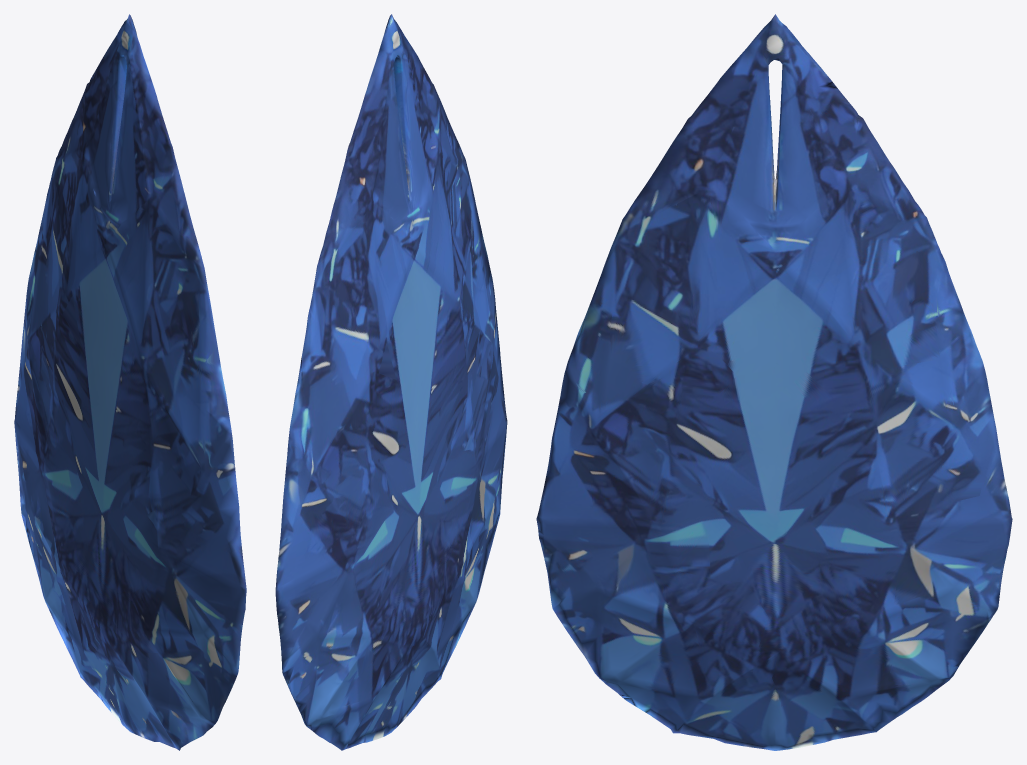
The model's file is 1fixedgem.fbx.
3 views of the same model, side by side, from view 1: azimuth 30°, elevation 25°; view 2: azimuth 150°, elevation 25°; view 3: azimuth 270°, elevation 25° (orthographic). The views are drawn at different scales.
Visible parts, largest first — view 1: tripo_node_ef69bd0a; view 2: tripo_node_ef69bd0a; view 3: tripo_node_ef69bd0a.
Part boxes in pixels (box(x1,y1,x2,y2)): tripo_node_ef69bd0a: box(14, 14, 246, 750); tripo_node_ef69bd0a: box(275, 14, 507, 750); tripo_node_ef69bd0a: box(536, 14, 1012, 750).
Bounding box in the file's own units: 8.12 × 100 × 58.58.
1 material, 1 textured.
